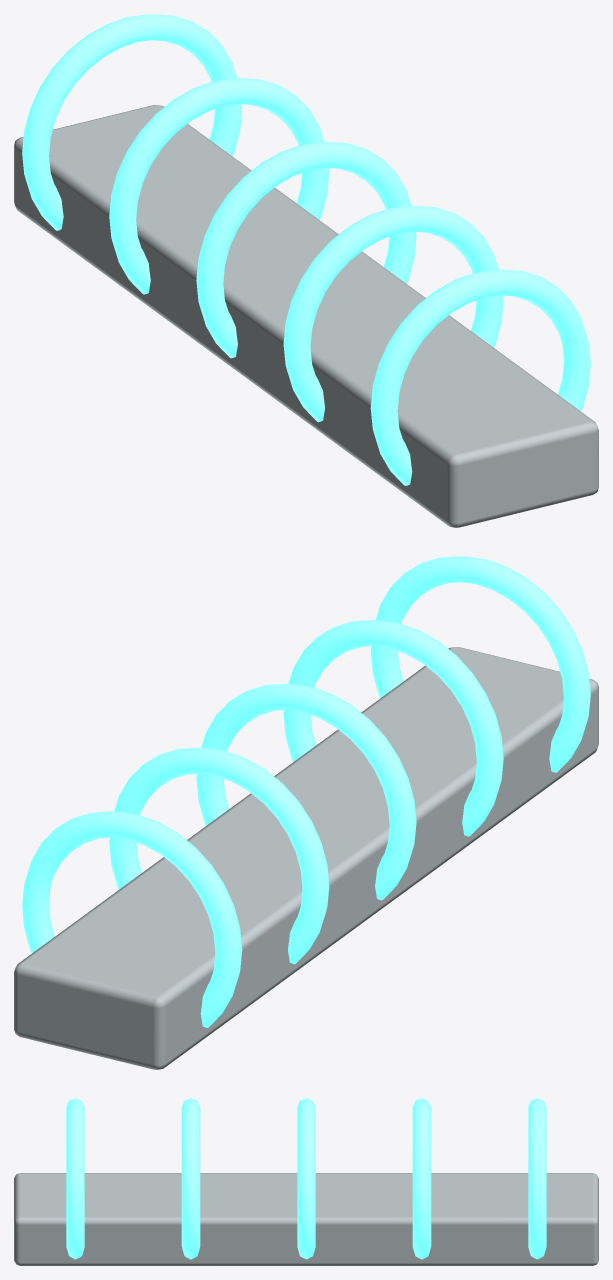
3 views of the same model, one above another, from view 1: azimuth 30°, elevation 25°; view 2: azimuth 150°, elevation 25°; view 3: azimuth 270°, elevation 25° (orthographic). The views are drawn at different scales.
Parts seen in each view (by area): view 1: jump-drive-spine; view 2: jump-drive-spine; view 3: jump-drive-spine.
Boxes of the visible parts, box(x1,y1,x2,y2) form: jump-drive-spine: box(14, 14, 598, 527); jump-drive-spine: box(14, 556, 598, 1069); jump-drive-spine: box(14, 1098, 598, 1265).
Bounding box in the file's own units: 1.08 × 1.08 × 3.8.
